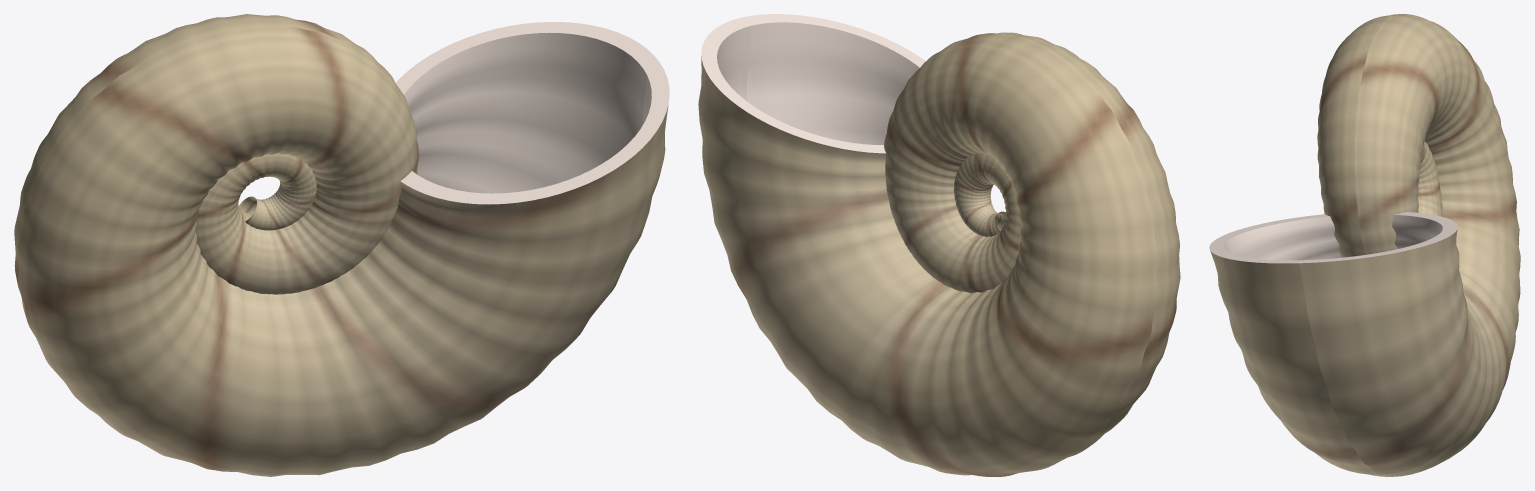
Rendered from nautilus.glb.
3 views of the same model, side by side, from view 1: azimuth 30°, elevation 25°; view 2: azimuth 150°, elevation 25°; view 3: azimuth 270°, elevation 25° (orthographic). The views are drawn at different scales.
Visible parts, largest first — view 1: nautilus; view 2: nautilus; view 3: nautilus.
Boxes of the visible parts, x1=… form: nautilus: x1=14, y1=14, x2=669, y2=476; nautilus: x1=698, y1=14, x2=1180, y2=476; nautilus: x1=1209, y1=14, x2=1520, y2=476.
Bounding box in the file's own units: 1.92 × 1.54 × 1.11.
